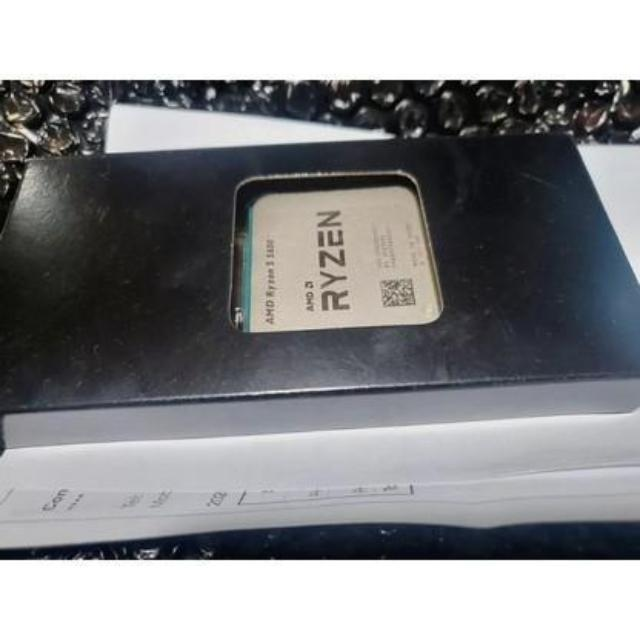CPU: (242, 185, 442, 343)
